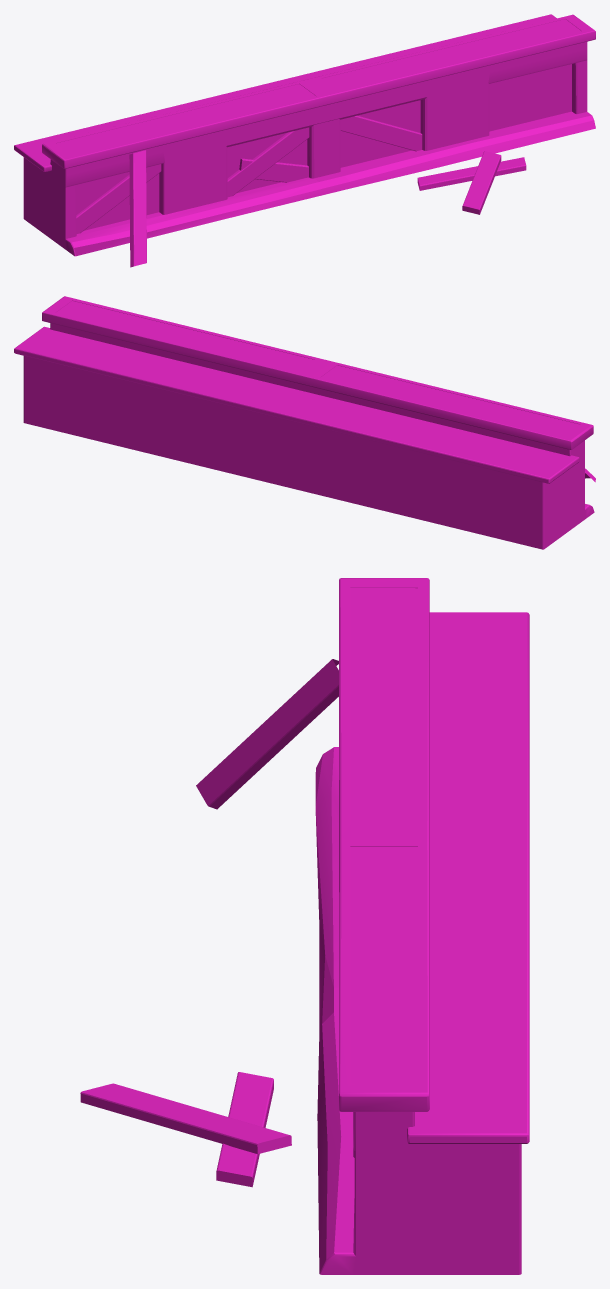
File: BarKapot.fbx
3 renders of one model, top to bottom at view 1: azimuth 30°, elevation 25°; view 2: azimuth 150°, elevation 25°; view 3: azimuth 270°, elevation 25°, orthographic. The views are drawn at different scales.
Parts seen in each view (by area): view 1: Cube; view 2: Cube; view 3: Cube.
Boxes of the visible parts, x1=… form: Cube: x1=14, y1=14, x2=595, y2=267; Cube: x1=14, y1=296, x2=595, y2=549; Cube: x1=80, y1=578, x2=529, y2=1274.
Size of the model in its own units: 492 by 81.37 by 179.
